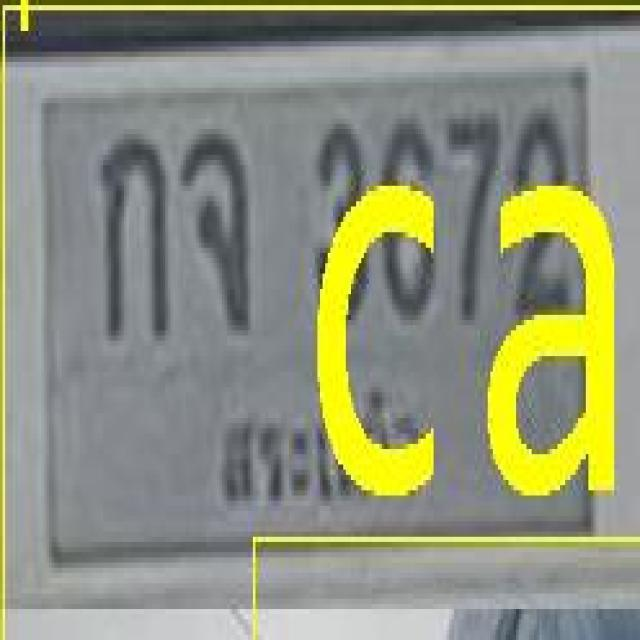license_plate: (0, 45, 640, 606)
